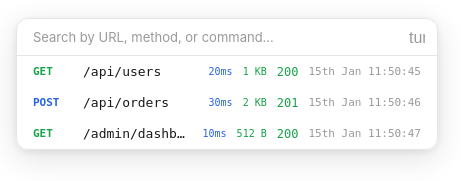
Test: EntrySelector › shows count label when filtering
Type "api" into the field with placeholder "Search by URL, method, or command...".
click(211, 37); type("api")  # box [17, 19, 405, 55]
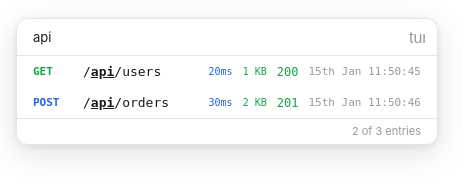
Result: the text "2 of 3 entries" is shown at [17, 118, 437, 144]
